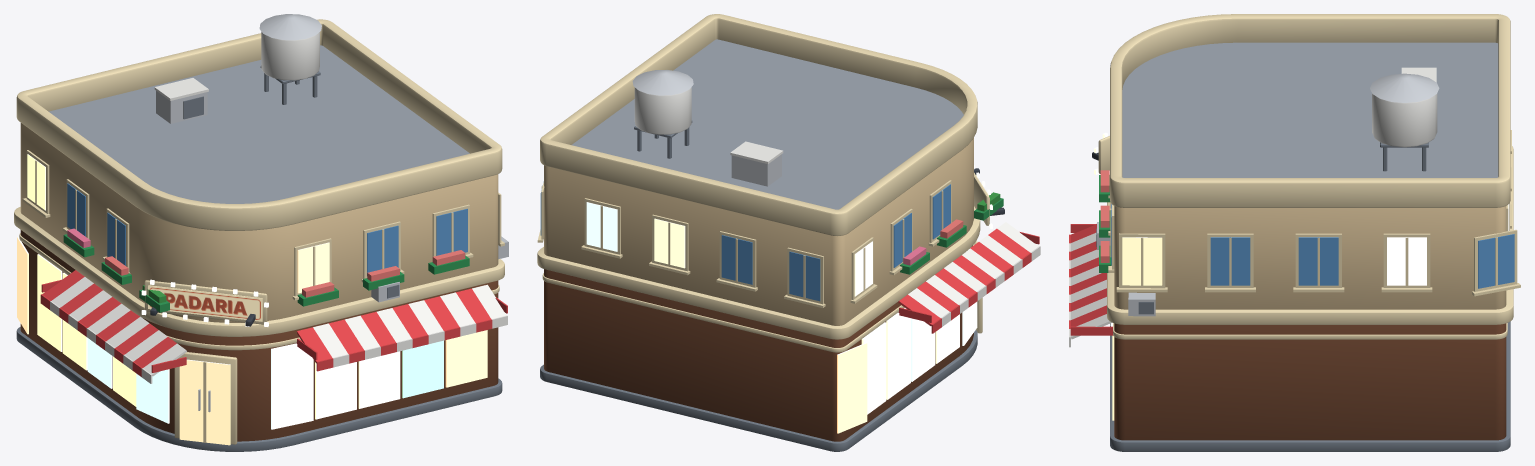
The model's file is loja_esquina_padaria.glb.
3 renders of one model, left to right at view 1: azimuth 30°, elevation 25°; view 2: azimuth 150°, elevation 25°; view 3: azimuth 270°, elevation 25°, orthographic. The views are drawn at different scales.
Visible parts, largest first — view 1: loja_esquina_padaria; view 2: loja_esquina_padaria; view 3: loja_esquina_padaria.
Boxes of the visible parts, left/top/right/bottom form: loja_esquina_padaria: left=14, top=14, right=508, bottom=451; loja_esquina_padaria: left=537, top=14, right=1040, bottom=451; loja_esquina_padaria: left=1069, top=14, right=1520, bottom=451.
Bounding box in the file's own units: 12.54 × 10.05 × 12.45.
Materials: 8 (2 with a texture image).
